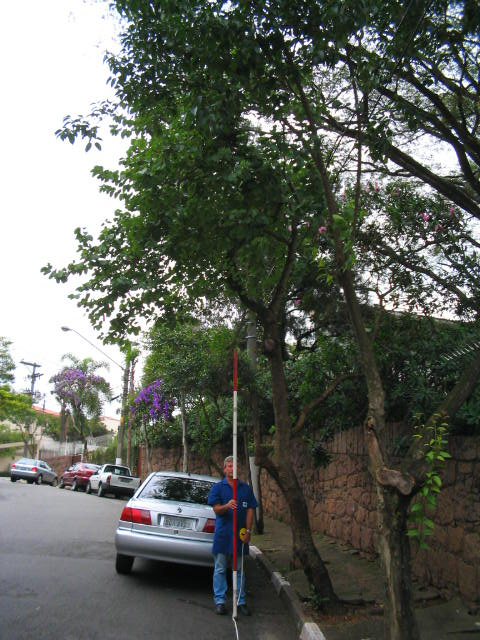crown: (39, 90, 361, 362)
stem: (250, 321, 355, 609), (367, 486, 440, 638)
stick: (226, 349, 246, 618)
tree: (36, 89, 364, 610)
